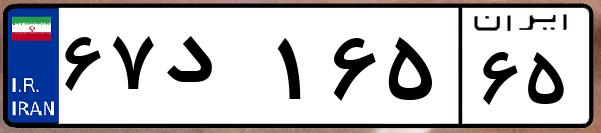1: (270, 28, 330, 110)
5: (385, 28, 445, 110), (525, 38, 570, 115)
6: (330, 28, 385, 110), (57, 26, 110, 100), (475, 38, 525, 113)
7: (110, 28, 158, 98)
د: (158, 20, 270, 120)
